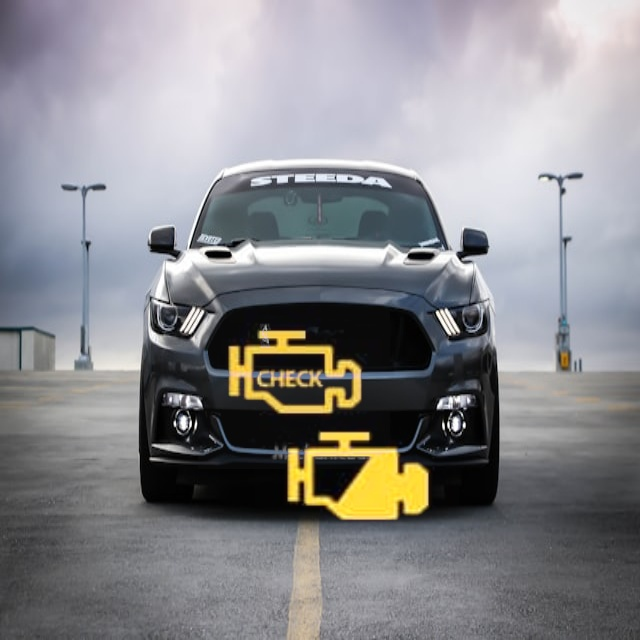symbol: (255, 375, 459, 579), (198, 277, 390, 469)
